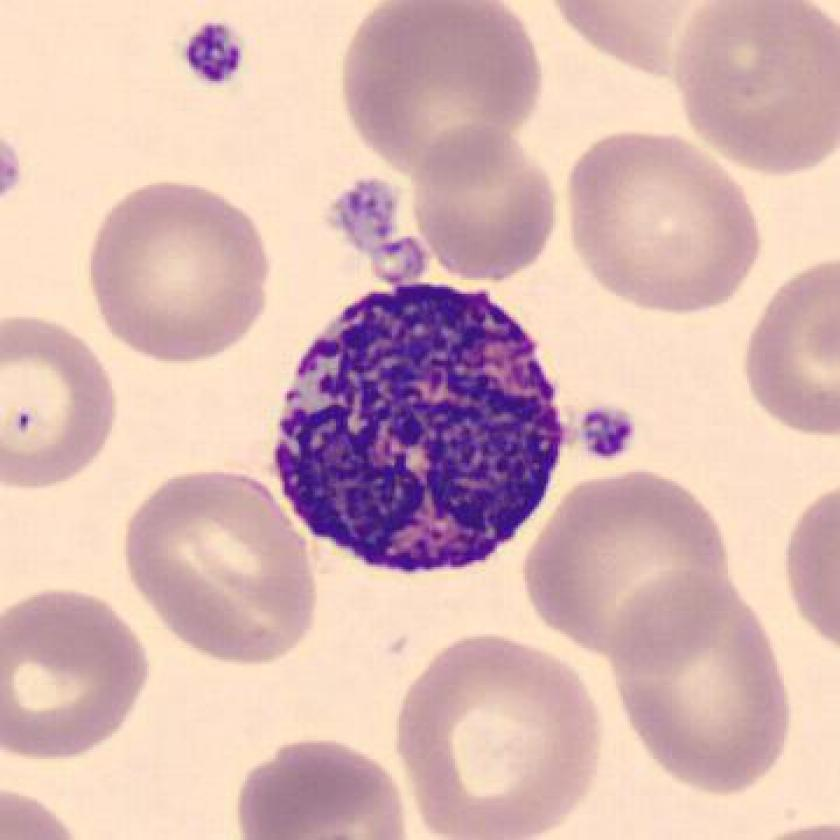basophil: (260, 277, 573, 573)
